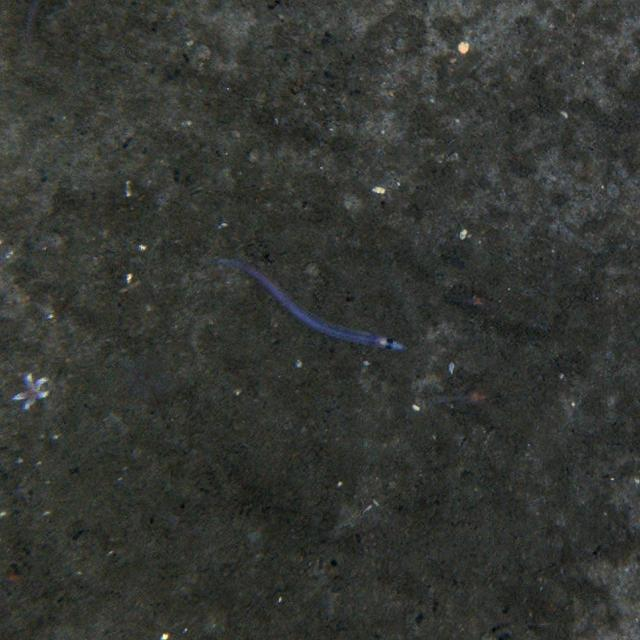roundfish: (217, 244, 414, 360)
